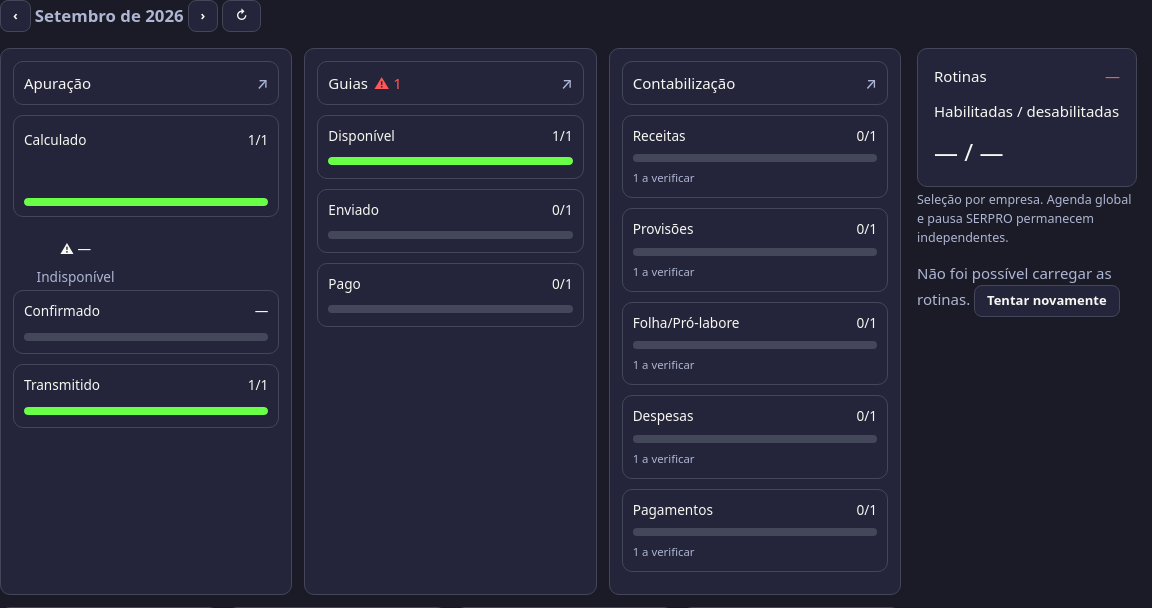
it: erro usa o mesmo estado das guias; abrir não envia e novo envio exige confirmação
Click the button with aria-label "Erros de envio de guias".
click(348, 83)  # box left=317, top=61, right=584, bottom=105
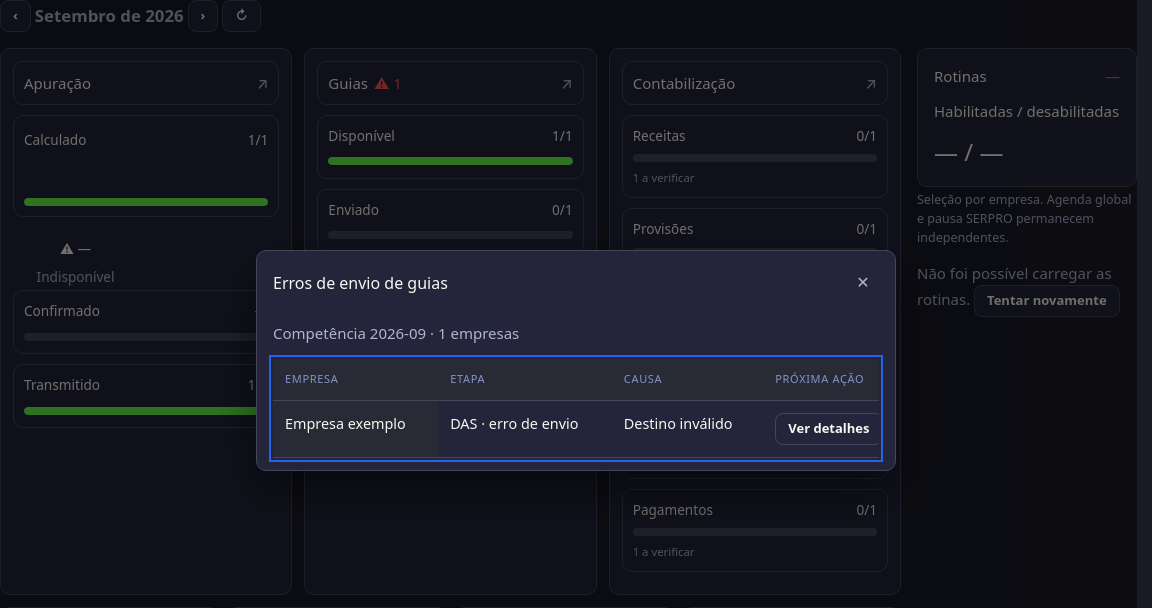
Click the button "Ver detalhes".
click(829, 428)  # box left=775, top=412, right=882, bottom=444
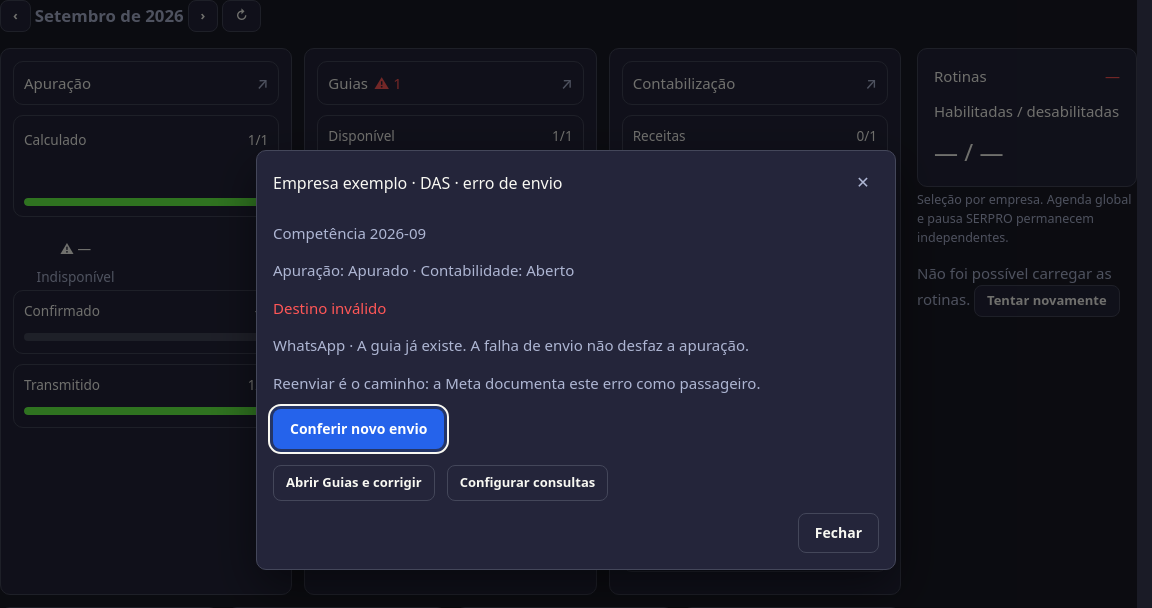
Result: the text "Destino inválido" is shown once at left=273, top=298, right=386, bottom=318
Result: the text "Apurado" is shown at left=348, top=260, right=409, bottom=280
Click the button "Conferir novo envio".
click(359, 430)  # box left=273, top=410, right=444, bottom=450
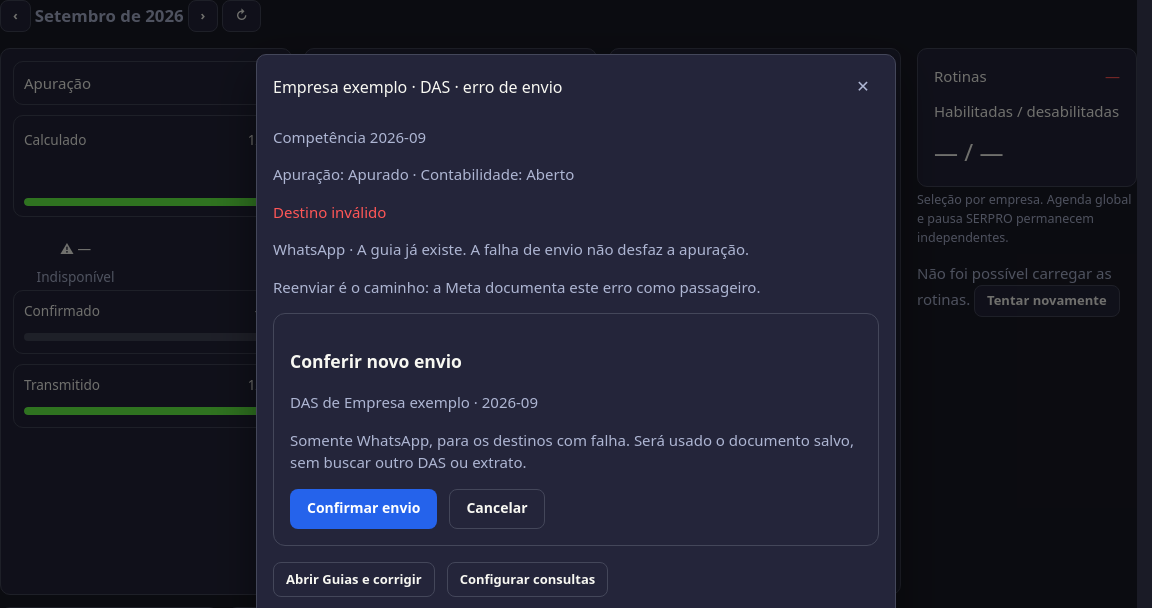
Click the button "Confirmar envio".
click(364, 509)  # box left=290, top=489, right=437, bottom=529
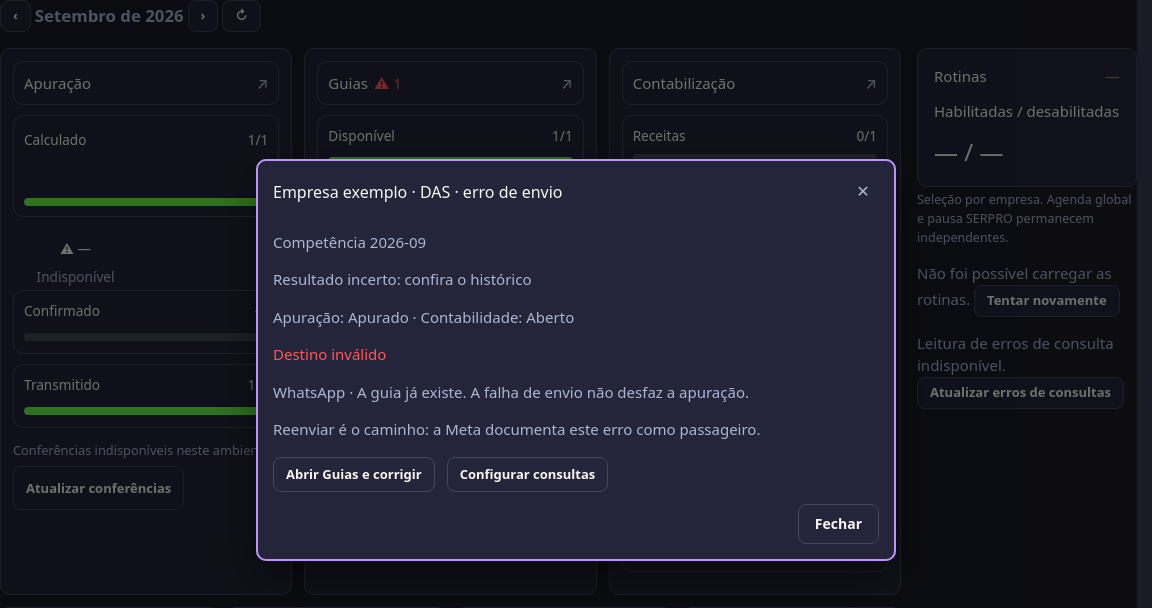
Result: the text "Resultado incerto: confira o histórico" is shown at left=273, top=269, right=532, bottom=289
Result: the heading "Conferir novo envio" is gone
